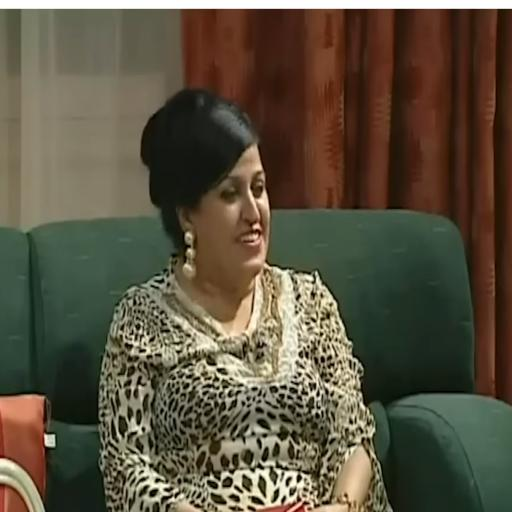jannet: (177, 93, 270, 281)
